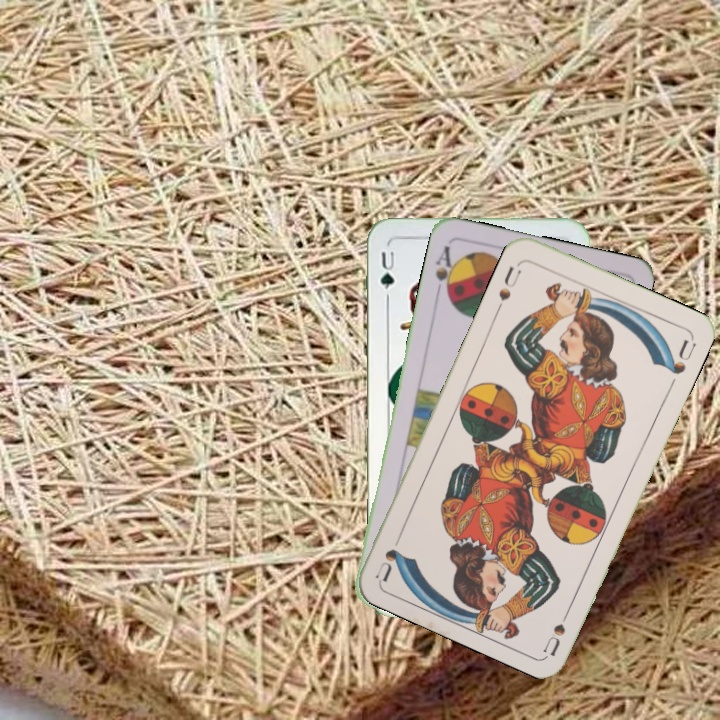GU: (376, 247, 397, 293)
SA: (431, 241, 459, 300)
SU: (540, 599, 575, 657), (492, 262, 524, 314)
